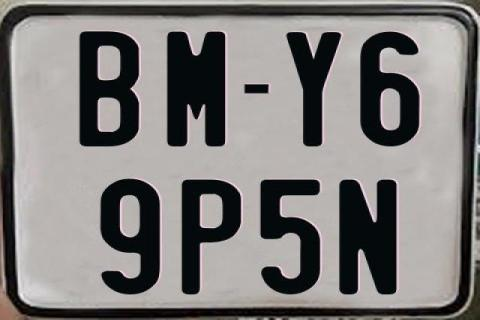0: (98, 178, 162, 296), (258, 177, 321, 293), (360, 29, 419, 147)
B: (77, 31, 142, 148)
M: (164, 31, 222, 147)
N: (336, 180, 397, 300)
P: (179, 178, 239, 296)
Y: (285, 30, 344, 148)
